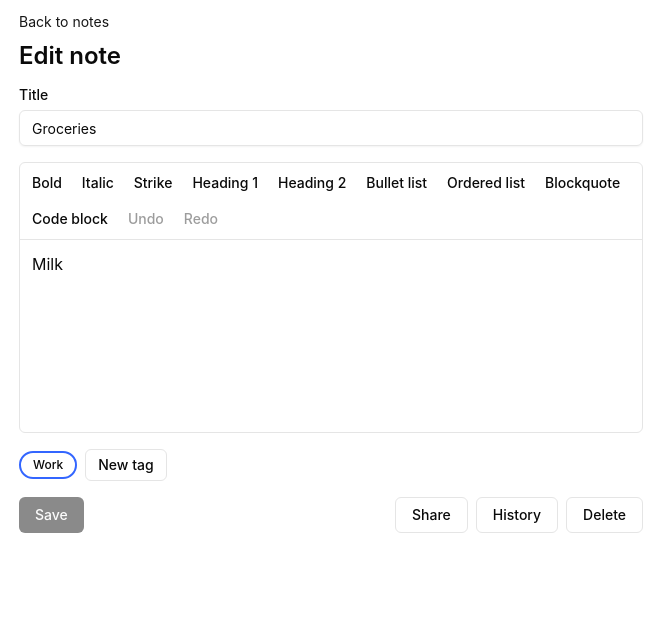
Test: New tag form › New tag opens the form
expect the field named "Note content" is shown: met, box x1=32 y1=254 x2=63 y2=274
Click the button "New tag".
click(126, 465)  # box x1=85 y1=449 x2=167 y2=481
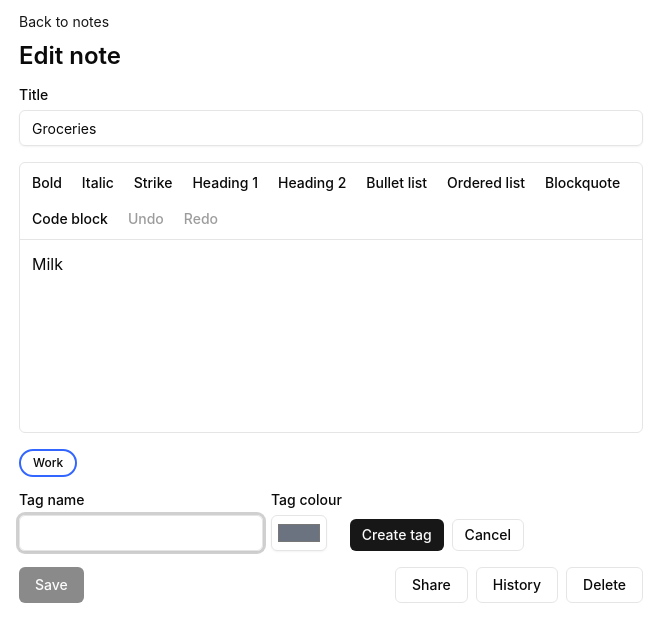
expect the form named "New tag" is shown: met, box x1=19 y1=491 x2=524 y2=551
expect the colour field labelled "Tag colour" holds "#6b7280": met, box x1=271 y1=515 x2=327 y2=551
expect the button "Create tag" is shown: met, box x1=350 y1=519 x2=444 y2=551
